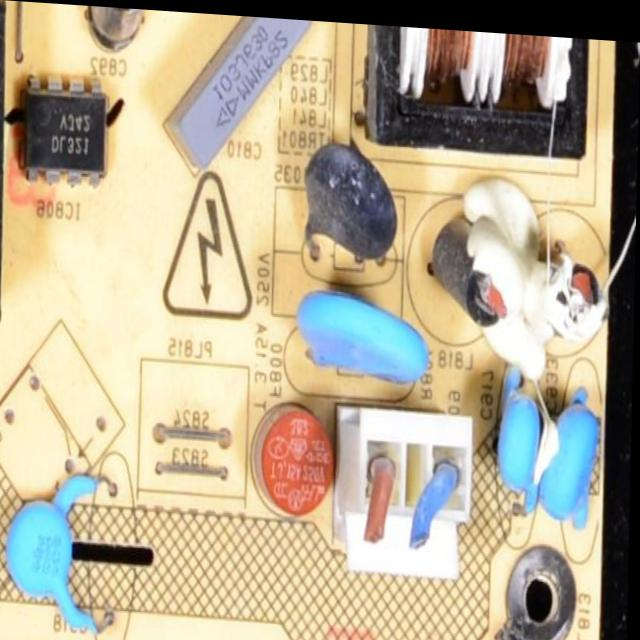IC: (16, 72, 114, 192)
capacitor: (171, 9, 294, 169), (289, 125, 394, 290), (24, 481, 137, 629), (440, 218, 528, 339), (551, 373, 609, 514), (491, 359, 549, 492), (86, 5, 162, 75)
